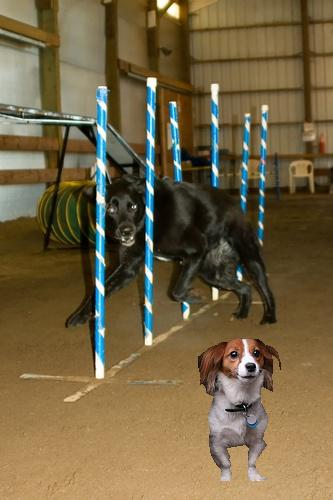tampered: (199, 339, 281, 481)
